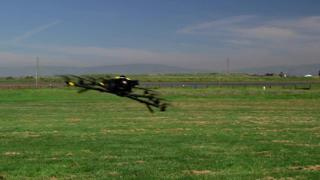UAV: (56, 75, 172, 113)
